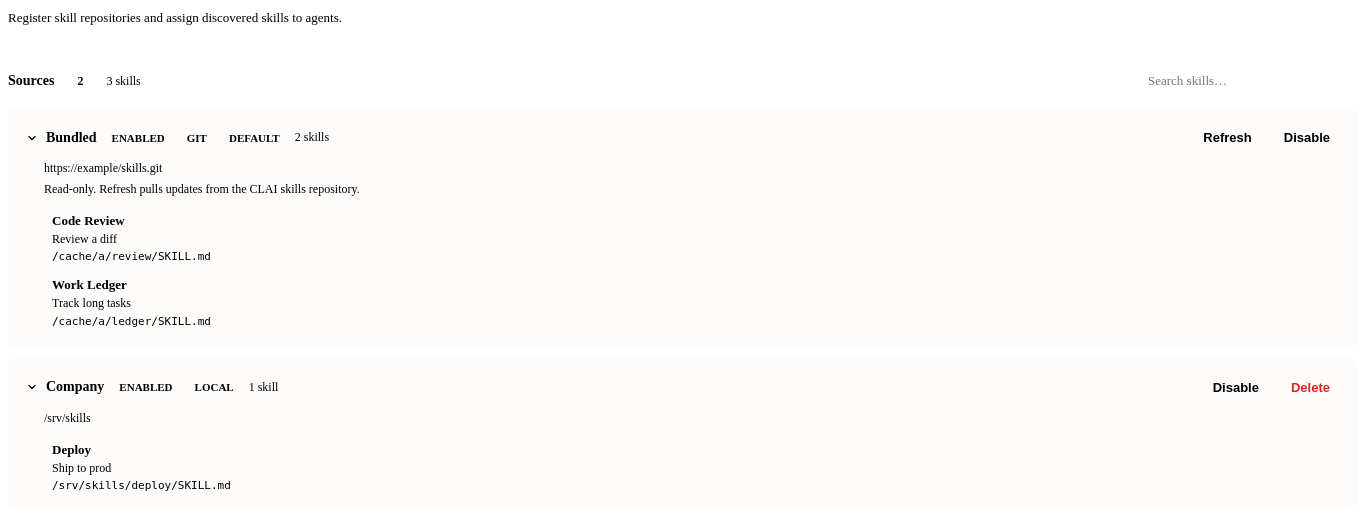
Test: SkillsSettings › counts what the search actually shows, not the whole catalog
Expected: the text "Bundled" is shown, [46, 130, 97, 146]
Expected: the text "3 skills" is shown, [106, 74, 141, 88]
In the search field labelled "Search skills": x=1248, y=81 [1138, 66, 1358, 96], type "ledger"
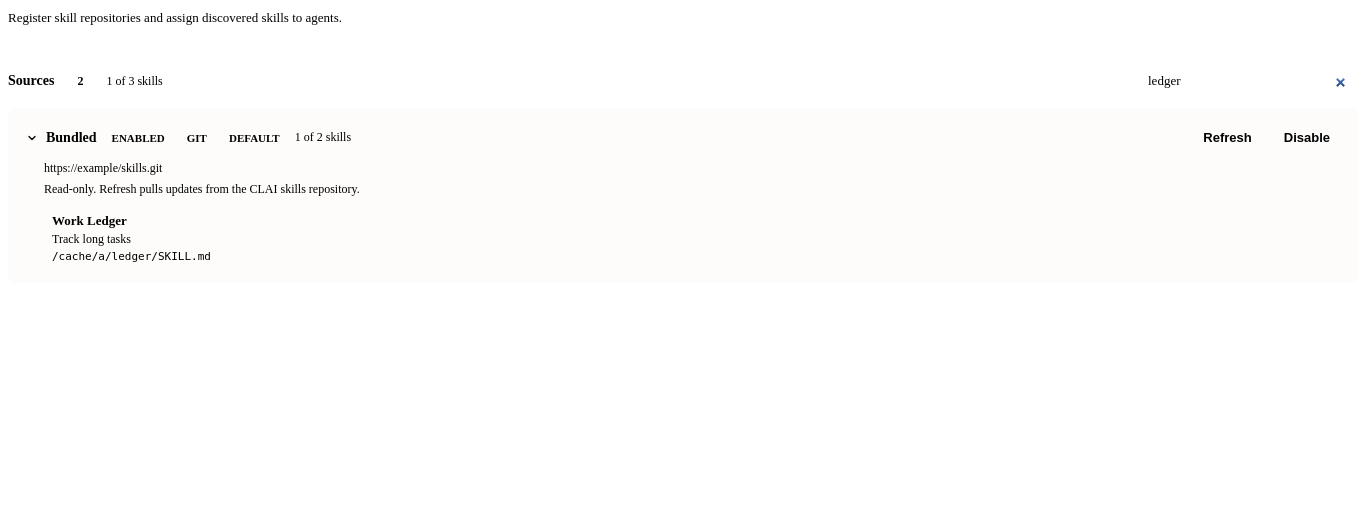
Expected: the text "1 of 3 skills" is shown, [106, 74, 163, 88]
Expected: the text "1 of 2 skills" is shown, [295, 130, 351, 145]
